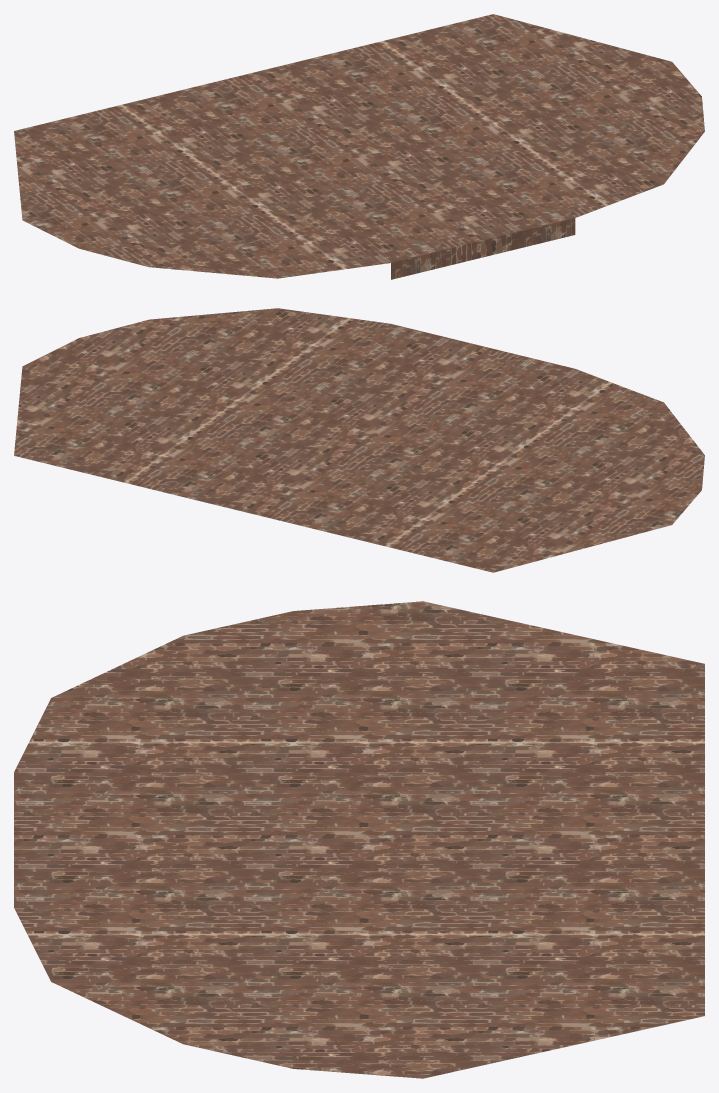
Rendered from tile_towerground.fbx.
3 views of the same model, one above another, from view 1: azimuth 30°, elevation 25°; view 2: azimuth 150°, elevation 25°; view 3: azimuth 270°, elevation 25° (orthographic). The views are drawn at different scales.
Parts seen in each view (by area): view 1: towerground; view 2: towerground; view 3: towerground.
Part boxes in pixels (<box>): towerground: <box>14,14,704,279</box>; towerground: <box>14,308,704,572</box>; towerground: <box>14,601,704,1078</box>.
Size of the model in its own units: 2816 by 1723 by 70.
